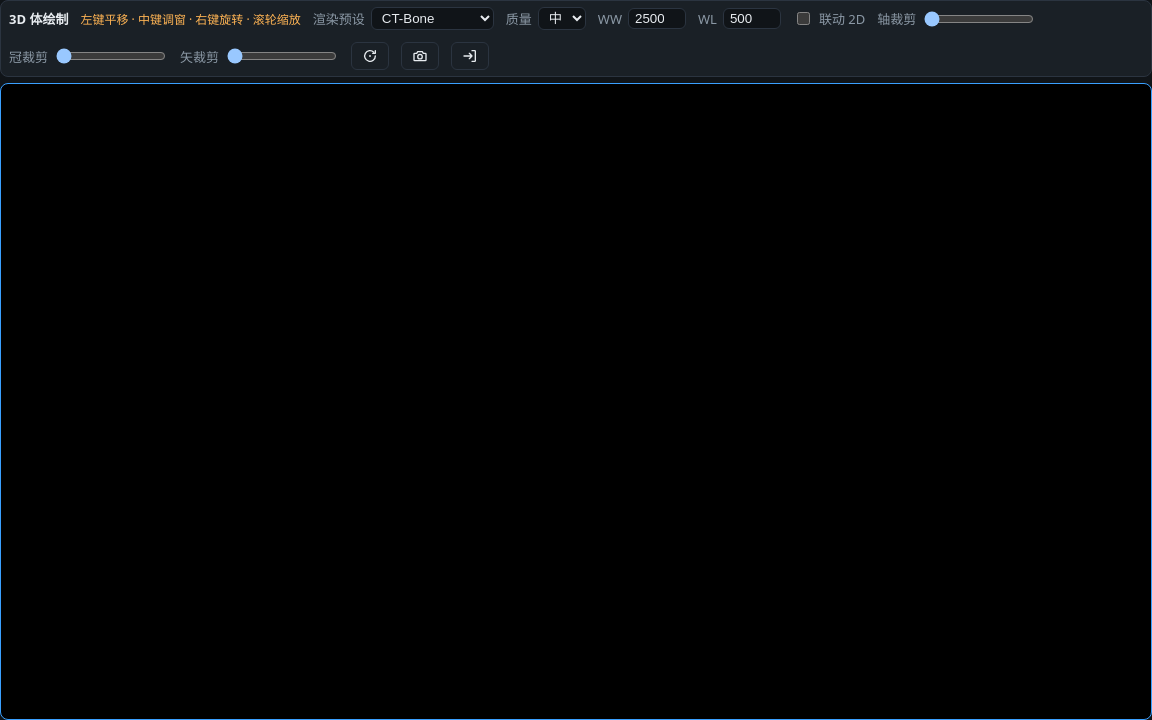
Scenario: 渲染预设恢复默认窗宽窗位（M11-F5） › 预设切换覆盖用户当前窗宽窗位（旧行为为保留，语义修正）
Expected: the text "3D 体绘制" is shown, [9,9,68,28]
Step 1. Replace the text in the number field named "3D 窗宽" with "400" → (657, 18), box [628,8,686,29]
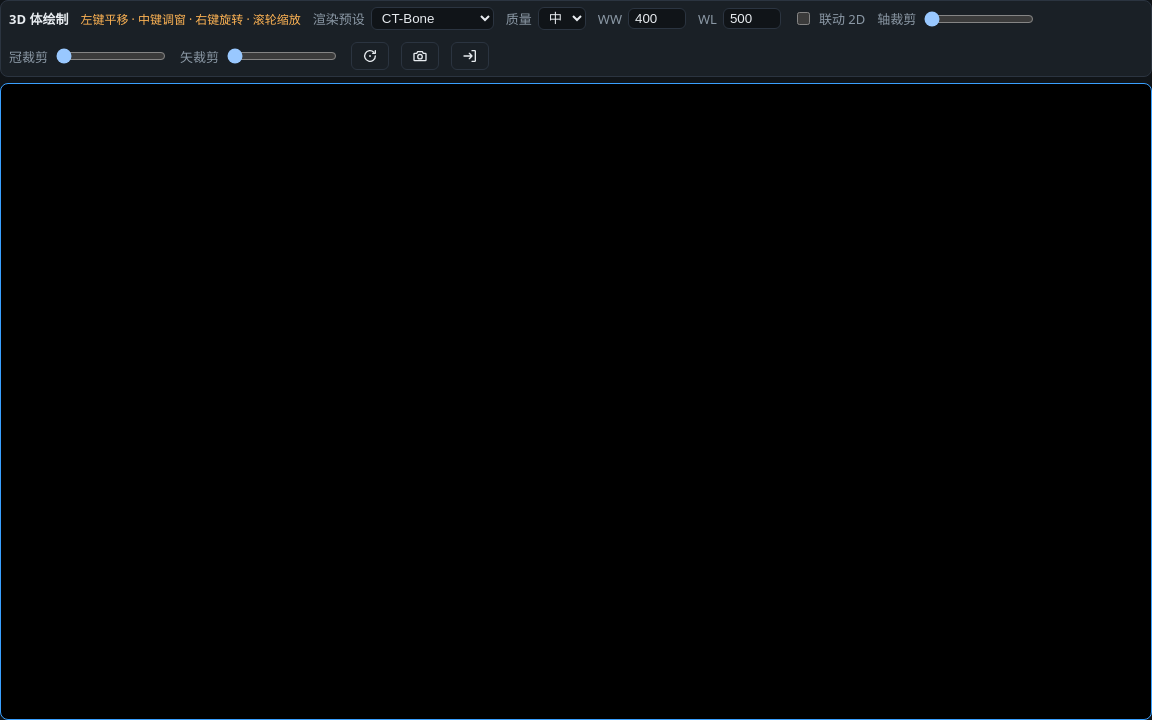
Step 2. Replace the text in the number field named "3D 窗位" with "40" → (752, 18), box [723,8,781,29]
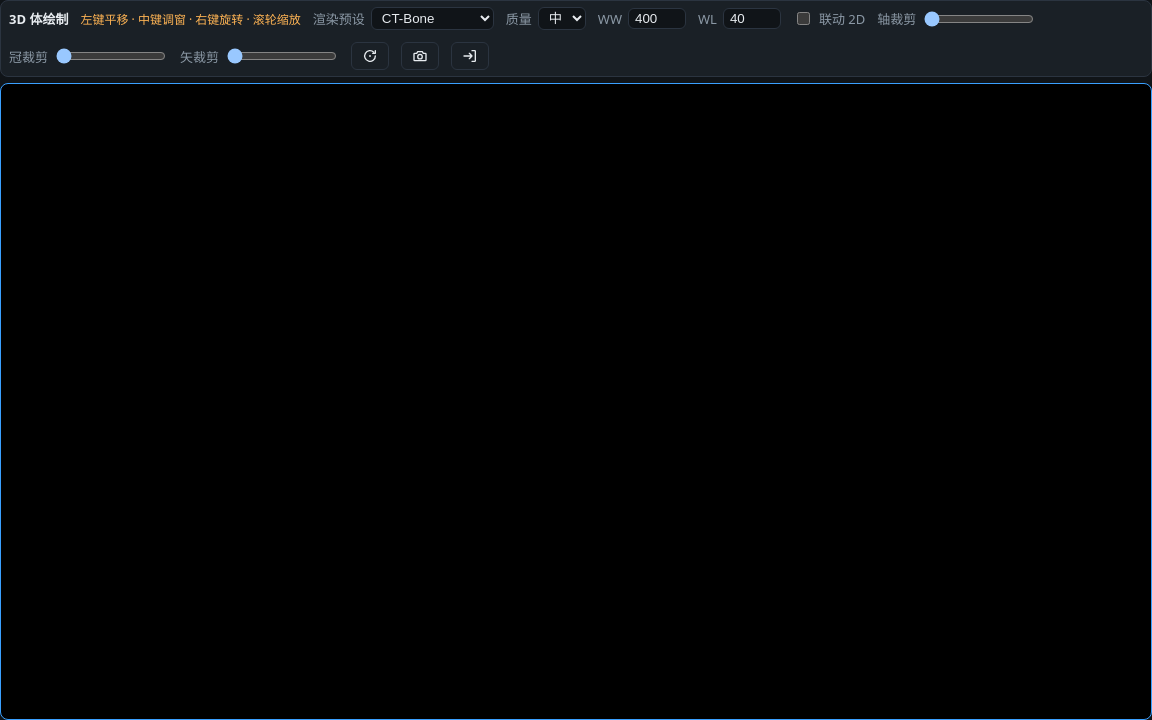
Step 3. Select "CT-Angio" in the dropdown named "3D 渲染预设" → (432, 18), box [371,7,494,30]
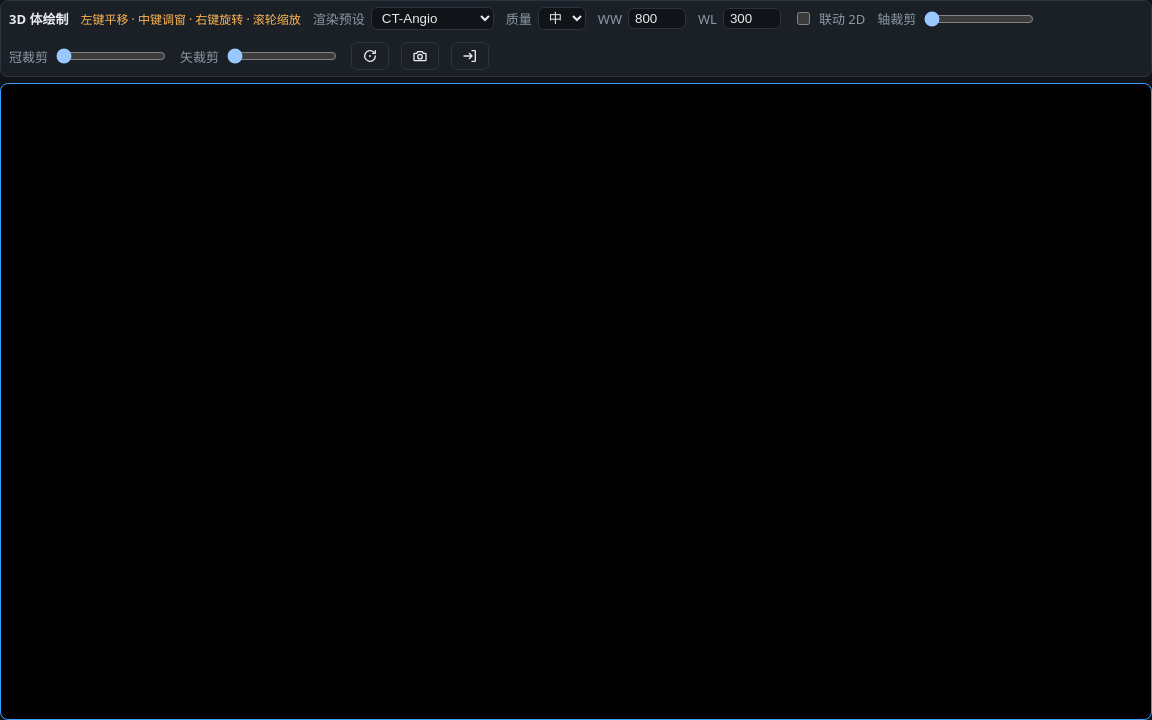
Result: the number field named "3D 窗宽" holds "800" at [628,8,686,29]
Result: the number field named "3D 窗位" holds "300" at [723,8,781,29]
